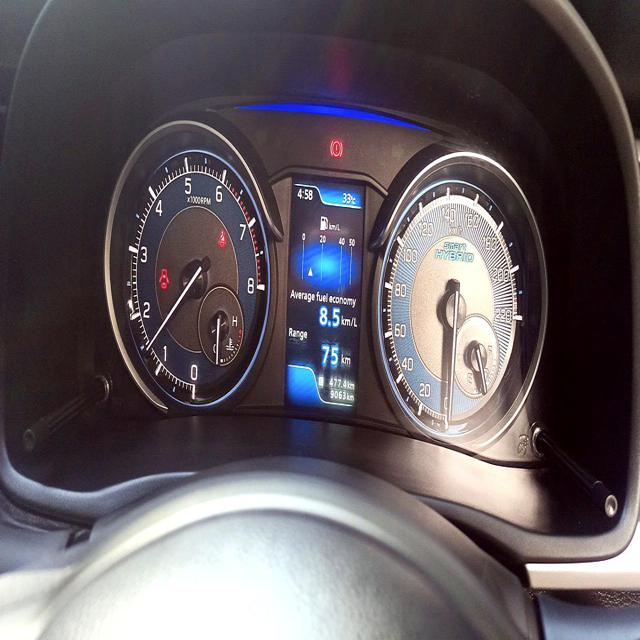odometer: (329, 388, 348, 402)
